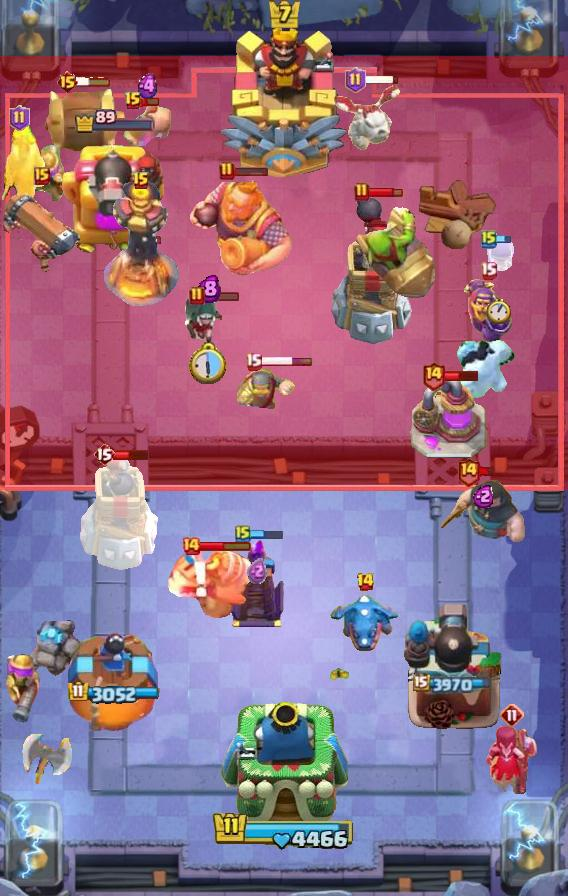battle-healer: (1, 190, 83, 274)
bomb-tower: (1, 652, 45, 724), (28, 143, 68, 201)
clock: (212, 810, 356, 852)
electro-dragon: (102, 181, 180, 309)
electro-spirit: (135, 72, 161, 99), (197, 274, 221, 303), (473, 484, 495, 508), (247, 558, 267, 584)
elixir: (189, 341, 229, 385), (487, 298, 511, 324)
emote: (199, 540, 252, 552), (259, 357, 313, 368), (443, 370, 480, 383), (113, 447, 150, 460), (76, 76, 112, 88), (233, 165, 269, 177), (248, 528, 284, 540), (368, 186, 403, 198), (203, 290, 241, 301), (363, 75, 400, 86), (140, 96, 160, 107), (494, 233, 512, 245), (477, 467, 495, 478)
executioner: (123, 104, 173, 150)
firecracker: (236, 366, 296, 411)
firecracker-evolution: (463, 277, 513, 343)
giant-skeleton: (188, 176, 294, 278)
goblin: (485, 237, 516, 277)
goblin-hut: (0, 123, 44, 206)
graveyard: (329, 592, 401, 654)
ice-spirit-evolution-symbol: (227, 537, 287, 629)
king-tower: (219, 23, 349, 181), (220, 702, 348, 827)
mini-pekka: (333, 82, 403, 154)
night-witch: (162, 543, 254, 621)
pekka: (409, 378, 487, 460)
queen-tower: (68, 633, 160, 731)
rage: (455, 339, 517, 407)
rascal-boy: (483, 724, 541, 796)
royal-giant: (21, 734, 73, 786)
royal-hog: (438, 475, 530, 547)
selected: (68, 680, 160, 704), (73, 110, 154, 135), (414, 673, 495, 695)
tesla: (183, 293, 235, 347)
text: (422, 361, 447, 392), (456, 457, 481, 488), (500, 703, 524, 727), (56, 70, 79, 94), (346, 67, 367, 93), (9, 105, 30, 131), (93, 442, 115, 466), (181, 536, 201, 556), (356, 572, 375, 592), (124, 91, 142, 111), (132, 171, 150, 191), (479, 260, 497, 279), (245, 353, 263, 371), (219, 161, 235, 181), (354, 182, 370, 202), (481, 229, 497, 249), (189, 286, 205, 306), (235, 524, 251, 544), (34, 167, 50, 185)
the-log: (37, 87, 127, 155)
tower-bar: (403, 601, 503, 731), (60, 138, 168, 256)
valkyrie-evolution: (20, 620, 86, 682)
x-bow: (356, 207, 436, 301)
zappy: (329, 188, 416, 346), (76, 452, 162, 572)
